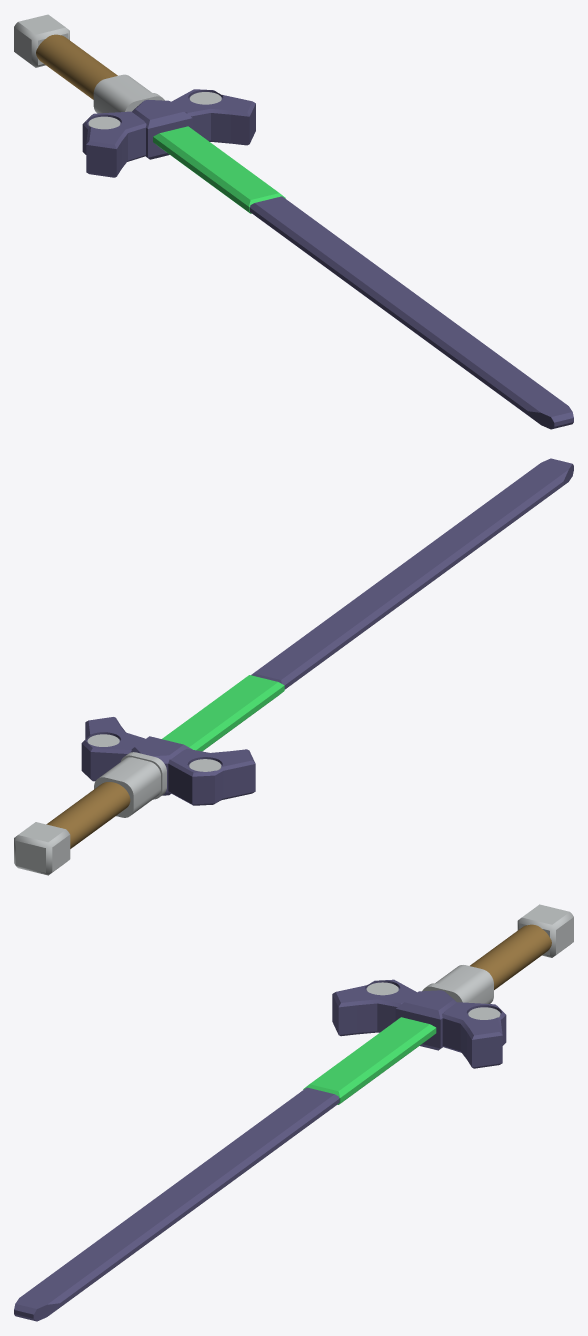
3 renders of one model, top to bottom at view 1: azimuth 30°, elevation 25°; view 2: azimuth 150°, elevation 25°; view 3: azimuth 330°, elevation 25°, orthographic.
Visible parts, largest first — view 1: blade, green_root, angular_arm, angular_arm.001, grip, ferrule, hub, end_cap; view 2: blade, angular_arm, green_root, grip, ferrule, end_cap, angular_arm.001, hub; view 3: blade, green_root, angular_arm.001, angular_arm, grip, ferrule, hub, end_cap.
Boxes of the visible parts, x1,y1,x2,y2 form: blade: (249, 196, 573, 429); green_root: (153, 126, 285, 213); angular_arm: (82, 111, 146, 177); angular_arm.001: (171, 89, 255, 145); grip: (36, 34, 117, 99); ferrule: (93, 74, 164, 113); hub: (132, 99, 192, 159); end_cap: (14, 14, 69, 67); blade: (251, 458, 573, 689); angular_arm: (168, 748, 255, 805); green_root: (162, 675, 284, 751); grip: (46, 782, 130, 848); ferrule: (94, 752, 166, 817); end_cap: (14, 822, 70, 875); angular_arm.001: (81, 717, 145, 781); hub: (131, 736, 192, 795); blade: (14, 1087, 339, 1321); green_root: (303, 1017, 436, 1104); angular_arm.001: (442, 1002, 506, 1068); angular_arm: (332, 979, 416, 1036); grip: (470, 924, 551, 989); ferrule: (422, 965, 493, 1003); hub: (395, 990, 456, 1050); end_cap: (517, 904, 573, 957).
Size of the model in its own units: 0.1289 by 0.0299 by 0.7.
